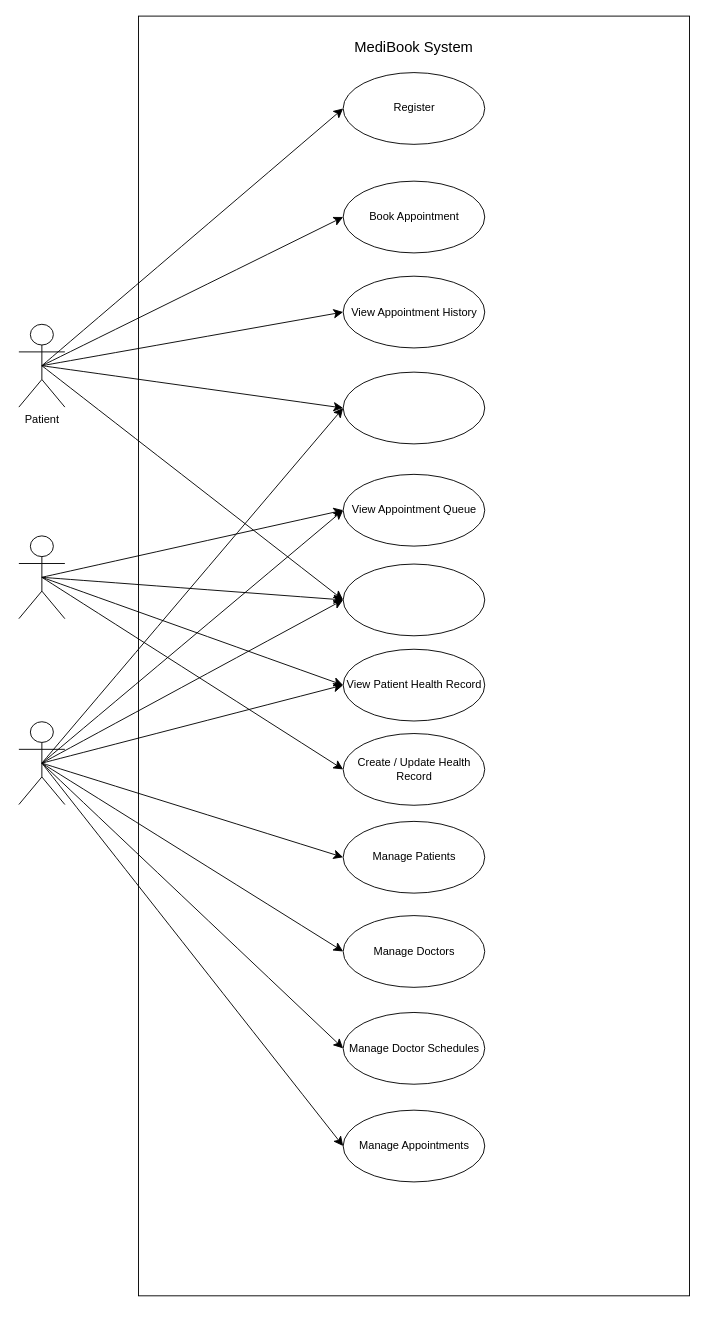
The diagram is 706 pixels wide and 1321 high, and some of its shapes have lost their labels. The centre of each missing label's shape, as x and y in pixels:
Clinic Staff: the point at 41,763
Doctor: the point at 41,577
Login: the point at 413,599
View Appointment Status: the point at 413,407
